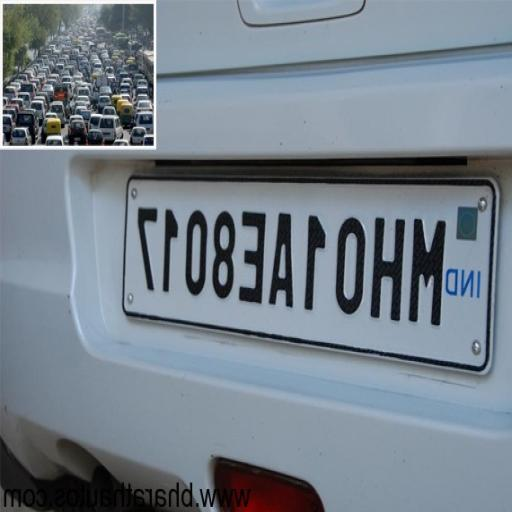License: (121, 179, 497, 369)
